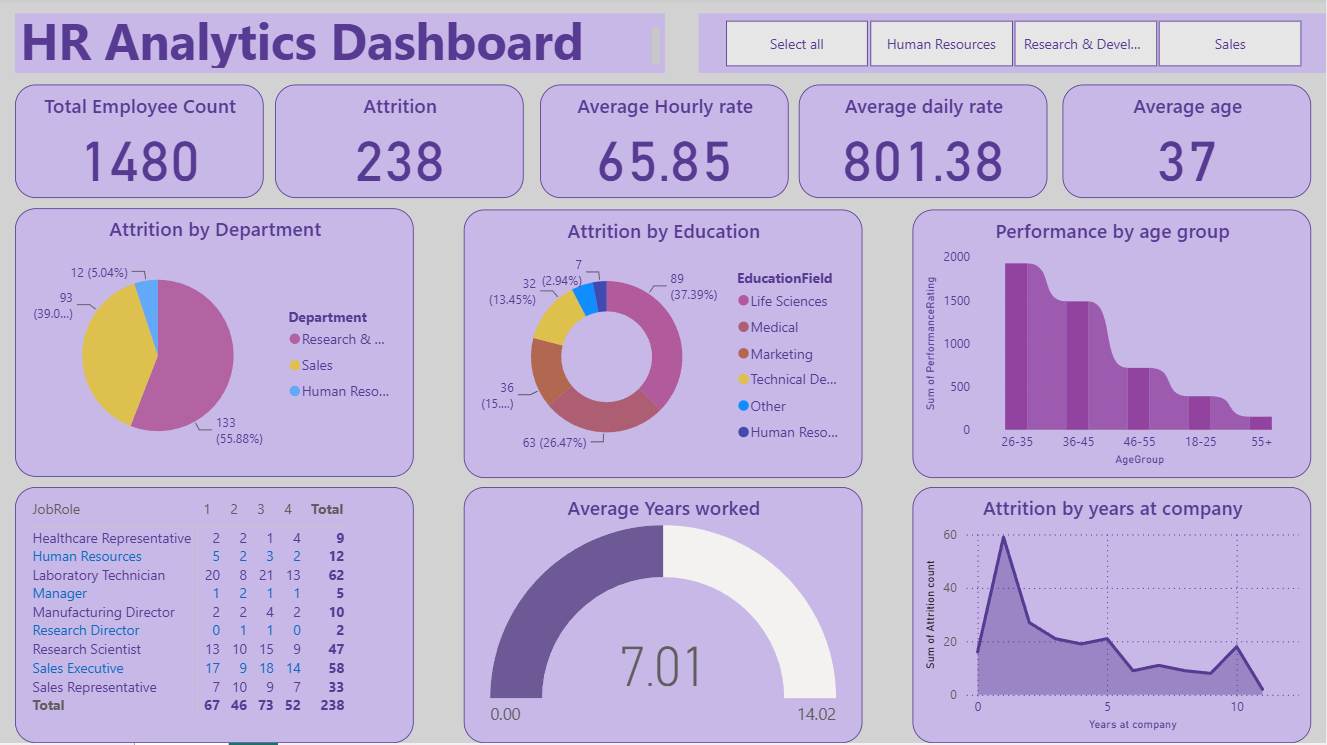

What the dashboard file says about the page in this screenshot:
{"tool":"powerbi","page":{"name":"Page 1","canvas":[1280,720],"ordinal":0},"visuals":[{"type":"card","title":"Total Employee Count","fields":{"Values":["Sum(HR_An.EmployeeCount)"]},"box":[14.5,84.5,240.1,109.8],"z":0},{"type":"card","title":"Attrition","fields":{"Values":["Sum(HR_An.Attrition count)"]},"box":[265.4,84.5,240.1,109.8],"z":1000},{"type":"card","title":"Average daily rate","fields":{"Values":["HR_An.MeasureDaily"]},"box":[770.9,84.5,240.1,109.8],"z":2000},{"type":"card","title":"Average Hourly rate","fields":{"Values":["HR_An.Hourrate"]},"box":[521.2,84.5,240.1,109.8],"z":3000},{"type":"card","title":"Average age","fields":{"Values":["Avg(HR_An.Age)"]},"box":[1025.5,84.5,240.1,109.8],"z":4000},{"type":"pieChart","title":"Attrition by Department","fields":{"Category":["HR_An.Department"],"Y":["Sum(HR_An.Attrition count)"]},"box":[14.5,203.9,384.9,259.4],"z":5000},{"type":"donutChart","title":"Attrition by Education","fields":{"Category":["HR_An.EducationField"],"Y":["Sum(HR_An.Attrition count)"]},"box":[447.6,205.1,384.9,259.4],"z":6000},{"type":"ribbonChart","title":"Performance by age group","fields":{"Category":["HR_An.AgeGroup"],"Y":["Sum(HR_An.PerformanceRating)"]},"box":[880.7,205.1,384.9,259.4],"z":7000},{"type":"pivotTable","fields":{"Rows":["HR_An.JobRole"],"Columns":["HR_An.JobSatisfaction"],"Values":["Sum(HR_An.Attrition count)"]},"box":[14,473,385,247],"z":8000},{"type":"gauge","title":"Average Years worked","fields":{"Y":["HR_An.YEAR"]},"box":[447.6,472.9,384.9,247.3],"z":9000},{"type":"areaChart","title":"Attrition by years at company","fields":{"Category":["HR_An.YearsAtCompany"],"Y":["Sum(HR_An.Attrition count)"]},"box":[880.7,472.9,384.9,247.3],"z":10000},{"type":"slicer","fields":{"Values":["HR_An.Department"]},"box":[674.4,15.7,605.6,57.9],"z":11000},{"type":"textbox","box":[14.5,15.7,627.3,57.9],"z":12000}]}

Visuals, with their boxes in screenshot pixels (x1, y1, x2, y2), scaled from the page's 1280x720 canvas onto the 1327x745 screenshot:
"Total Employee Count" card: left=15, top=87, right=264, bottom=201
"Attrition" card: left=275, top=87, right=524, bottom=201
"Average daily rate" card: left=799, top=87, right=1048, bottom=201
"Average Hourly rate" card: left=540, top=87, right=789, bottom=201
"Average age" card: left=1063, top=87, right=1312, bottom=201
"Attrition by Department" pieChart: left=15, top=211, right=414, bottom=479
"Attrition by Education" donutChart: left=464, top=212, right=863, bottom=481
"Performance by age group" ribbonChart: left=913, top=212, right=1312, bottom=481
pivotTable - HR_An.JobRole x HR_An.JobSatisfaction: left=15, top=489, right=414, bottom=744
"Average Years worked" gauge: left=464, top=489, right=863, bottom=744
"Attrition by years at company" areaChart: left=913, top=489, right=1312, bottom=744
slicer - HR_An.Department: left=699, top=16, right=1326, bottom=76
textbox: left=15, top=16, right=665, bottom=76
